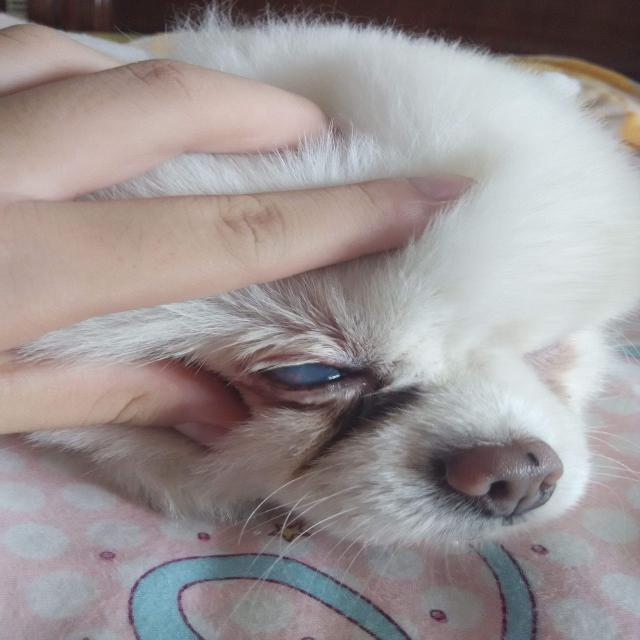eye: (253, 342, 365, 402)
